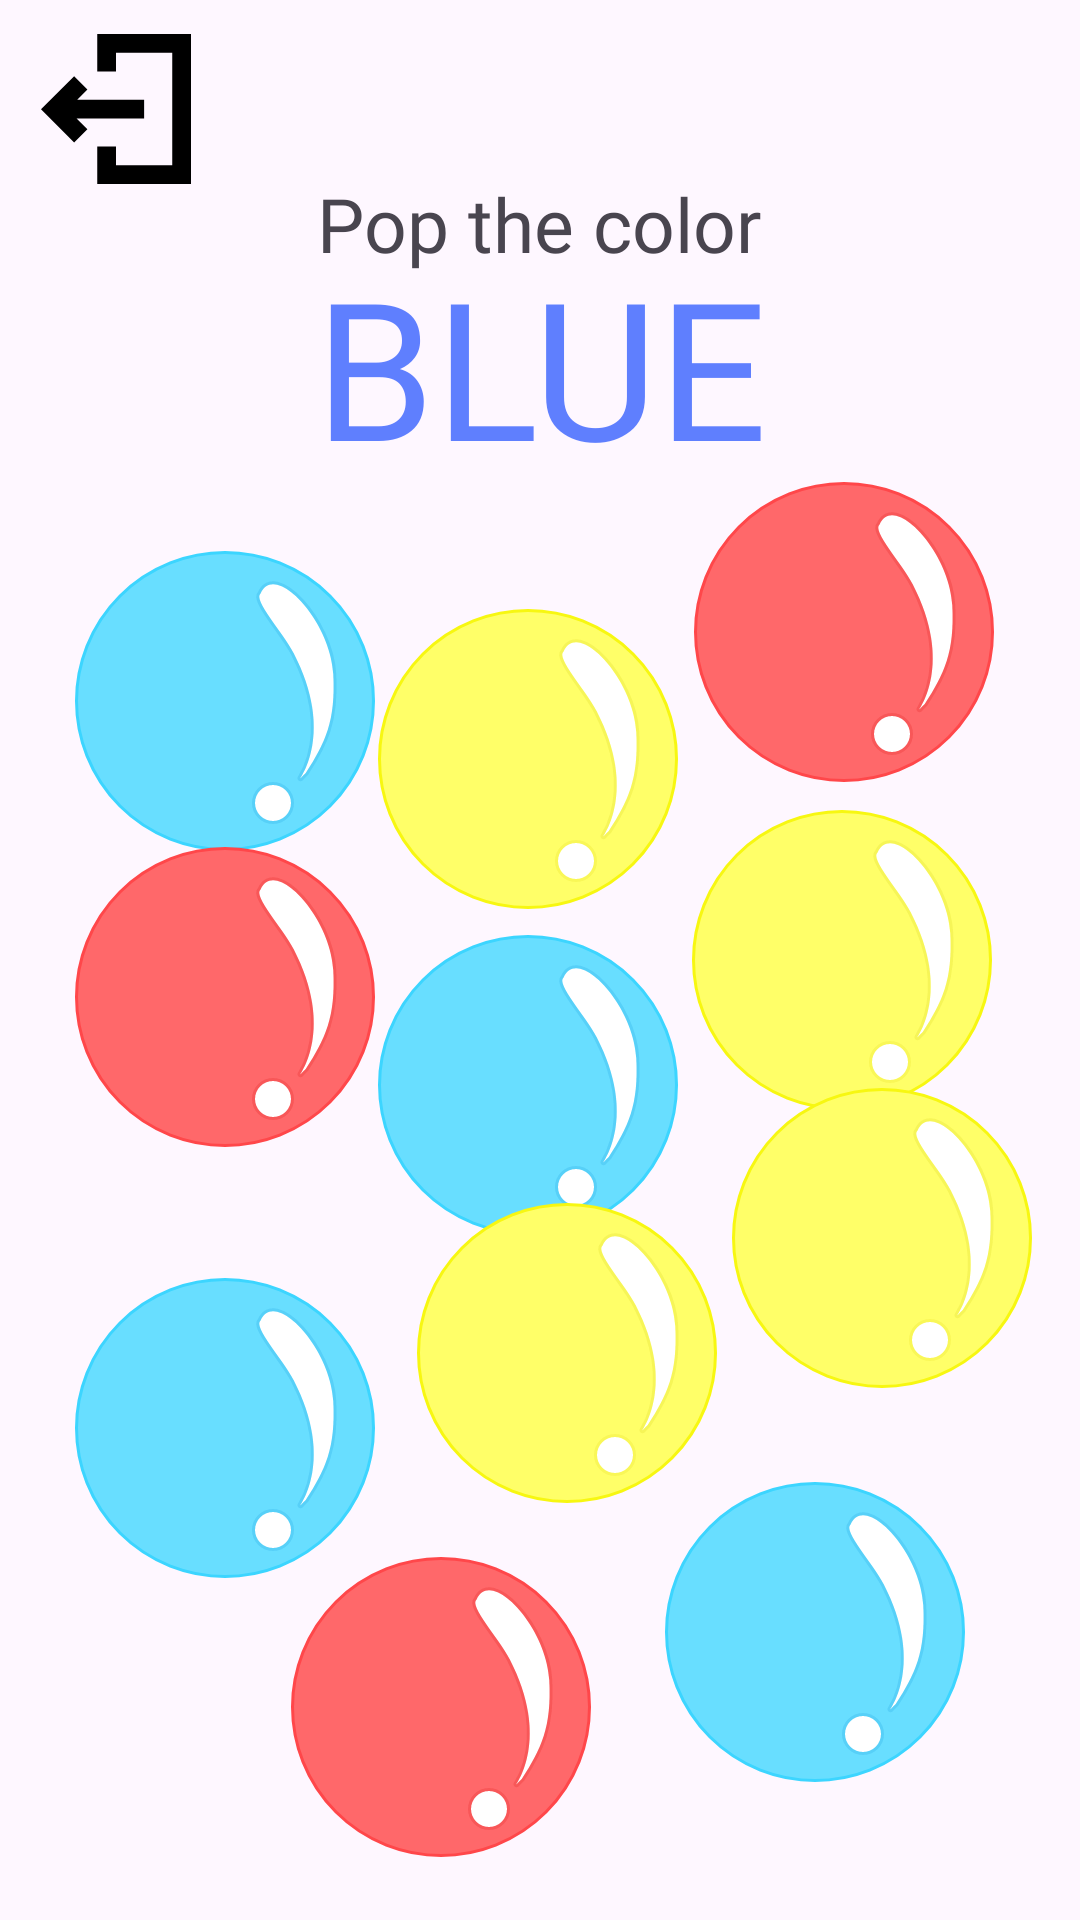

Named icons in this screenshot (1080x1920) and their centers, (x=x, y=y):
bblred: (x=844, y=632), (x=249, y=997), (x=441, y=1707)
exit: (x=116, y=109)
